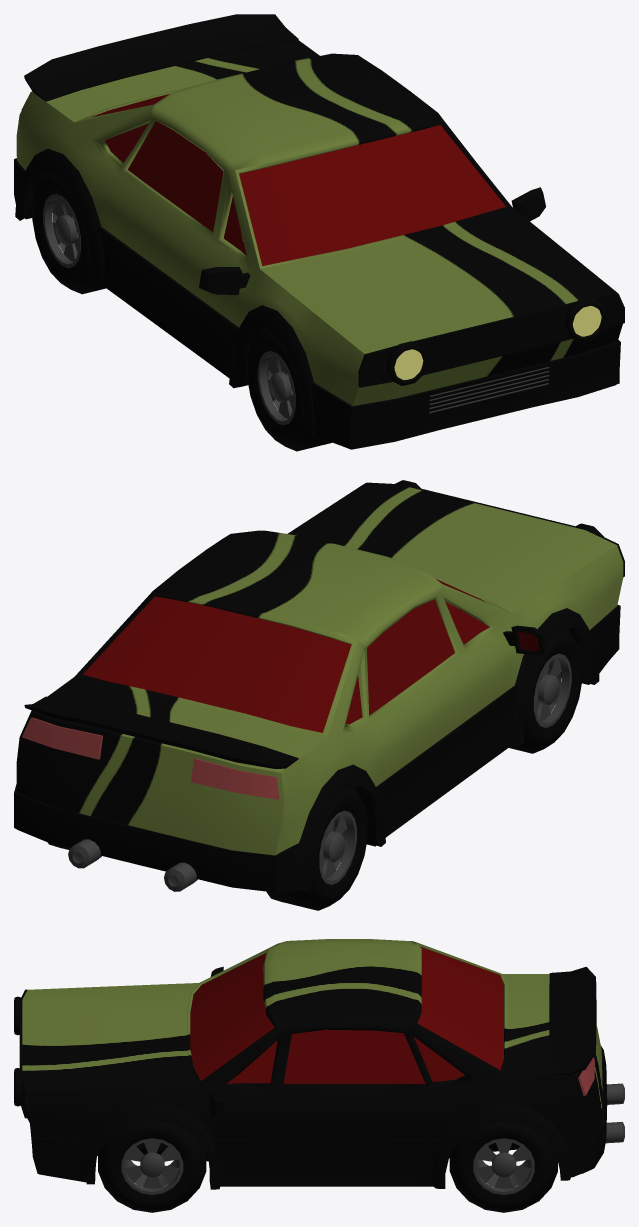
Rendered from Muscle Evolution2 Black WaveBlackKaki DarkRed DarkGrey.glb.
3 views of the same model, one above another, from view 1: azimuth 30°, elevation 25°; view 2: azimuth 150°, elevation 25°; view 3: azimuth 270°, elevation 25° (orthographic). The views are drawn at different scales.
Parts seen in each view (by area): view 1: evo2_body2_f1_dupl, evo2_frontGlass_f1_dupl, evo2_sill2_f1_dupl, evo2_spoiler2_f1_dupl, evo2_front_square2_f1_dupl, evo2_glasseBigR_f1_dupl, evo2_mudguardFR_f1_dupl, evo2_mudguardbR_f1_dupl, evo2_tire_rf1_f1_dupl, evo2_tire_rf_f1_dupl, evo2_rim_A_rf_f1_dupl, evo2_rim_A_rb_f1_dupl (+9 smaller); view 2: evo2_body2_f1_dupl, evo2_BackGlassGlass_f1_dupl, evo2_sill2_f1_dupl, evo2_spoiler2_f1_dupl, evo2_glasseBigR_f1_dupl, evo2_tire_rf_f1_dupl, evo2_mudguardbR_f1_dupl, evo2_mudguardFR_f1_dupl, evo2_tire_rf1_f1_dupl, evo2_rim_A_rf_f1_dupl, evo2_rim_A_rb_f1_dupl, evo2_redlightR2_f1_dupl (+5 smaller); view 3: evo2_body2_f1_dupl, evo2_sill2_f1_dupl, evo2_BackGlassGlass_f1_dupl, evo2_glasseBigL_f1_dupl, evo2_frontGlass_f1_dupl, evo2_tire_lf_f1_dupl, evo2_tire_lb_f1_dupl, evo2_spoiler2_f1_dupl, evo2_mudguardBL_f1_dupl, evo2_mudguardFL_f1_dupl, evo2_rim_A_lf_f1_dupl, evo2_rim_A_lb_f1_dupl (+4 smaller).
Boxes of the visible parts, bbox=[...] form: evo2_body2_f1_dupl: bbox=[16, 40, 622, 405]; evo2_frontGlass_f1_dupl: bbox=[239, 125, 505, 265]; evo2_sill2_f1_dupl: bbox=[14, 158, 620, 449]; evo2_spoiler2_f1_dupl: bbox=[24, 14, 298, 101]; evo2_front_square2_f1_dupl: bbox=[358, 292, 624, 387]; evo2_glasseBigR_f1_dupl: bbox=[128, 121, 223, 231]; evo2_mudguardFR_f1_dupl: bbox=[229, 305, 314, 437]; evo2_mudguardbR_f1_dupl: bbox=[15, 148, 104, 286]; evo2_tire_rf1_f1_dupl: bbox=[247, 327, 331, 451]; evo2_tire_rf_f1_dupl: bbox=[32, 171, 105, 294]; evo2_rim_A_rf_f1_dupl: bbox=[257, 351, 295, 425]; evo2_rim_A_rb_f1_dupl: bbox=[43, 194, 80, 268]; evo2_body2_f1_dupl: bbox=[16, 483, 623, 855]; evo2_BackGlassGlass_f1_dupl: bbox=[83, 596, 351, 732]; evo2_sill2_f1_dupl: bbox=[14, 605, 620, 891]; evo2_spoiler2_f1_dupl: bbox=[24, 696, 298, 768]; evo2_glasseBigR_f1_dupl: bbox=[367, 599, 454, 715]; evo2_tire_rf_f1_dupl: bbox=[266, 787, 367, 910]; evo2_mudguardbR_f1_dupl: bbox=[299, 764, 385, 891]; evo2_mudguardFR_f1_dupl: bbox=[512, 608, 599, 746]; evo2_tire_rf1_f1_dupl: bbox=[509, 629, 582, 753]; evo2_rim_A_rf_f1_dupl: bbox=[533, 653, 571, 727]; evo2_rim_A_rb_f1_dupl: bbox=[319, 810, 356, 884]; evo2_redlightR2_f1_dupl: bbox=[191, 758, 279, 799]; evo2_body2_f1_dupl: bbox=[22, 939, 602, 1159]; evo2_sill2_f1_dupl: bbox=[30, 1045, 607, 1186]; evo2_BackGlassGlass_f1_dupl: bbox=[417, 946, 503, 1070]; evo2_glasseBigL_f1_dupl: bbox=[283, 1029, 425, 1084]; evo2_frontGlass_f1_dupl: bbox=[190, 953, 274, 1080]; evo2_tire_lf_f1_dupl: bbox=[98, 1120, 206, 1212]; evo2_tire_lb_f1_dupl: bbox=[449, 1122, 557, 1212]; evo2_spoiler2_f1_dupl: bbox=[549, 966, 596, 1074]; evo2_mudguardBL_f1_dupl: bbox=[433, 1102, 570, 1188]; evo2_mudguardFL_f1_dupl: bbox=[86, 1102, 220, 1189]; evo2_rim_A_lf_f1_dupl: bbox=[121, 1138, 183, 1194]; evo2_rim_A_lb_f1_dupl: bbox=[473, 1138, 534, 1194].
Bounding box in the file's own units: 177 × 112 × 331.
7 materials, 1 textured.
